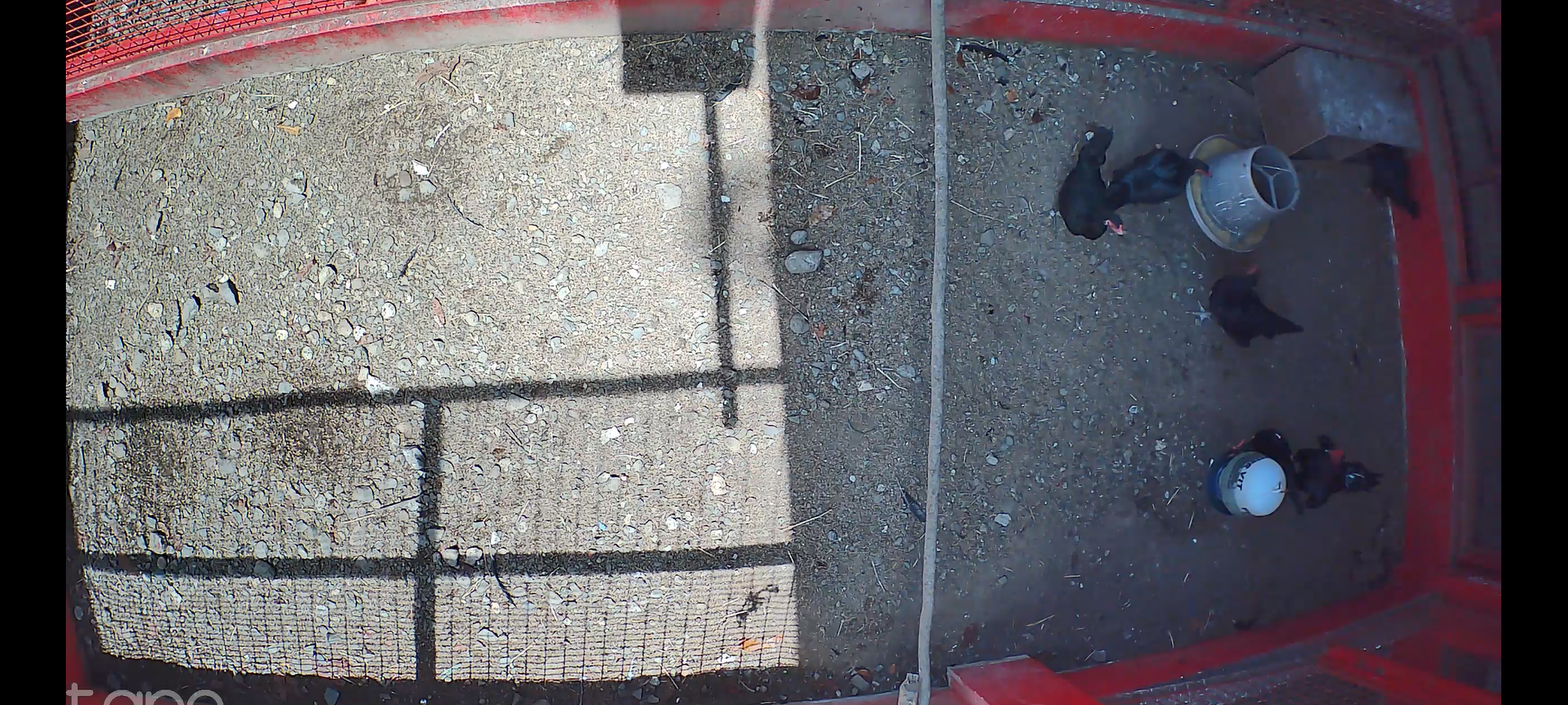Chicken: (1181, 263, 1308, 358), (1039, 125, 1135, 247), (1103, 150, 1215, 212), (1363, 144, 1432, 230)
Drinker: (1182, 129, 1302, 253), (1206, 449, 1291, 519)
Rooster: (1293, 438, 1384, 508)
